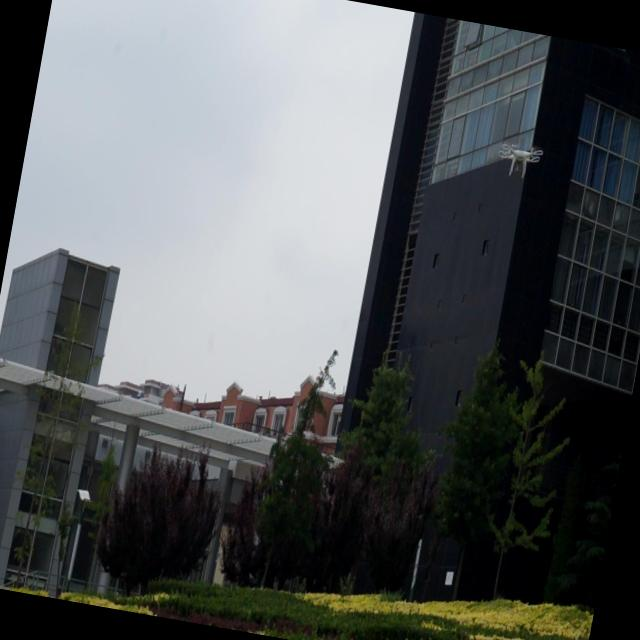drone: (492, 137, 545, 186)
